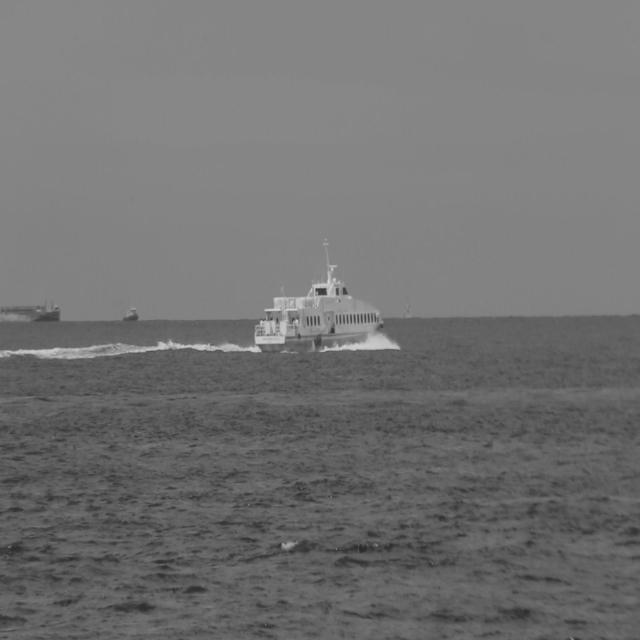ship: (254, 235, 386, 347), (1, 297, 62, 321)
